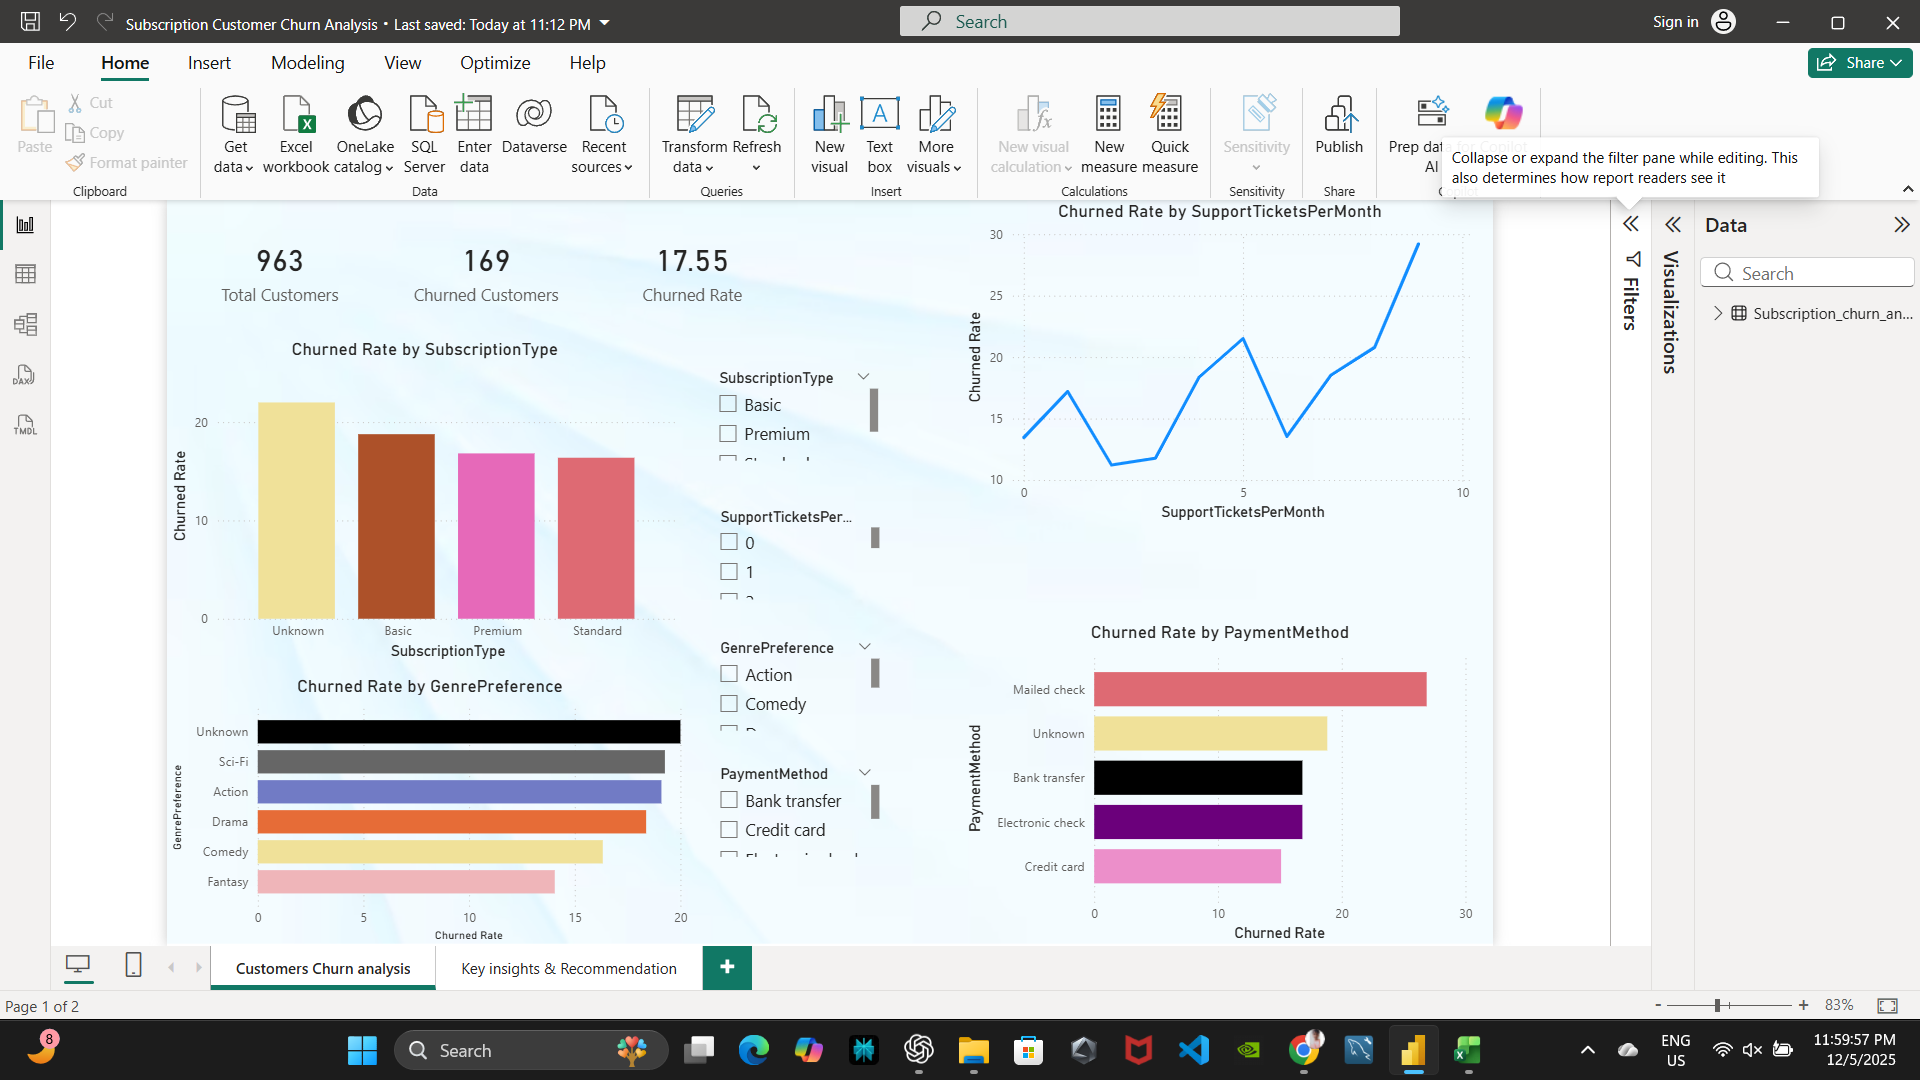

The page's visual inventory and layout, read from the dashboard file:
{"tool":"powerbi","page":{"name":"Customers Churn analysis","canvas":[1280,720],"ordinal":0},"visuals":[{"type":"card","fields":{"Values":["Subscription_churn_analysis.Total Customers"]},"box":[9.6,0,199,134.5],"z":0},{"type":"card","fields":{"Values":["Subscription_churn_analysis.Churned Customers"]},"box":[208.6,0,199,134.5],"z":1000},{"type":"card","fields":{"Values":["Subscription_churn_analysis.Churned Rate"]},"box":[407.5,0,199,134.5],"z":2000},{"type":"columnChart","fields":{"Category":["Subscription_churn_analysis.SubscriptionType"],"Y":["Subscription_churn_analysis.Churned Rate"]},"box":[0,134.5,498.1,314.2],"z":3000},{"type":"clusteredBarChart","fields":{"Category":["Subscription_churn_analysis.PaymentMethod"],"Y":["Subscription_churn_analysis.Churned Rate"]},"box":[767.1,406.2,498.1,314.2],"z":4000},{"type":"lineChart","fields":{"Category":["Subscription_churn_analysis.SupportTicketsPerMonth"],"Y":["Subscription_churn_analysis.Churned Rate"]},"box":[767.1,0,498.1,314.2],"z":4001},{"type":"clusteredBarChart","fields":{"Y":["Subscription_churn_analysis.Churned Rate"],"Category":["Subscription_churn_analysis.GenrePreference"]},"box":[0,458.3,507.7,262.1],"z":4002},{"type":"slicer","fields":{"Values":["Subscription_churn_analysis.SubscriptionType"]},"box":[520.1,157.8,171.5,98.8],"z":4003},{"type":"slicer","fields":{"Values":["Subscription_churn_analysis.SupportTicketsPerMonth"]},"box":[521.4,292.3,171.5,98.8],"z":4004},{"type":"slicer","fields":{"Values":["Subscription_churn_analysis.GenrePreference"]},"box":[521.4,418.5,171.5,98.8],"z":4005},{"type":"slicer","fields":{"Values":["Subscription_churn_analysis.PaymentMethod"]},"box":[521.4,540.7,171.5,98.8],"z":4006}]}

Visuals, with their boxes on the page's 1280x720 design canvas (x1, y1, x2, y2). These are canvas units, not pixel positions in the 1920x1080 screenshot, which may show the page scaled, cropped or inside an application window:
card - Subscription_churn_analysis.Total Customers: {"x1": 10, "y1": 0, "x2": 209, "y2": 134}
card - Subscription_churn_analysis.Churned Customers: {"x1": 209, "y1": 0, "x2": 408, "y2": 134}
card - Subscription_churn_analysis.Churned Rate: {"x1": 408, "y1": 0, "x2": 606, "y2": 134}
columnChart - Subscription_churn_analysis.SubscriptionType x Subscription_churn_analysis.Churned Rate: {"x1": 0, "y1": 134, "x2": 498, "y2": 449}
clusteredBarChart - Subscription_churn_analysis.PaymentMethod x Subscription_churn_analysis.Churned Rate: {"x1": 767, "y1": 406, "x2": 1265, "y2": 720}
lineChart - Subscription_churn_analysis.SupportTicketsPerMonth x Subscription_churn_analysis.Churned Rate: {"x1": 767, "y1": 0, "x2": 1265, "y2": 314}
clusteredBarChart - Subscription_churn_analysis.Churned Rate x Subscription_churn_analysis.GenrePreference: {"x1": 0, "y1": 458, "x2": 508, "y2": 720}
slicer - Subscription_churn_analysis.SubscriptionType: {"x1": 520, "y1": 158, "x2": 692, "y2": 257}
slicer - Subscription_churn_analysis.SupportTicketsPerMonth: {"x1": 521, "y1": 292, "x2": 693, "y2": 391}
slicer - Subscription_churn_analysis.GenrePreference: {"x1": 521, "y1": 418, "x2": 693, "y2": 517}
slicer - Subscription_churn_analysis.PaymentMethod: {"x1": 521, "y1": 541, "x2": 693, "y2": 640}
